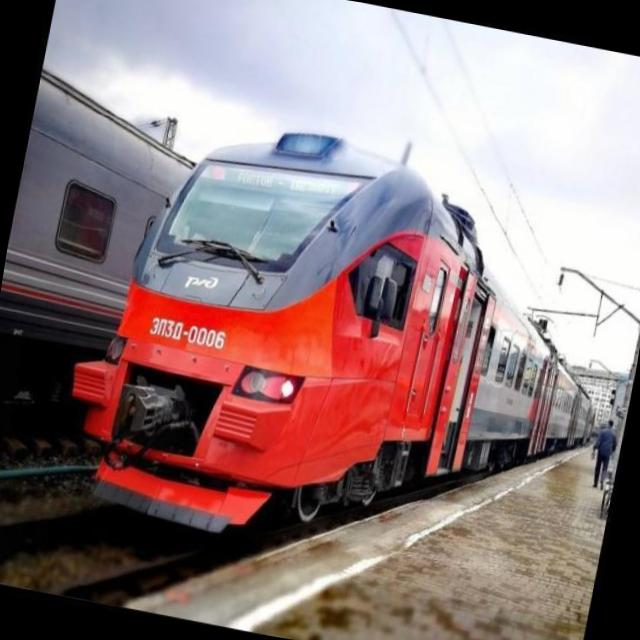trains: (73, 133, 599, 537)
